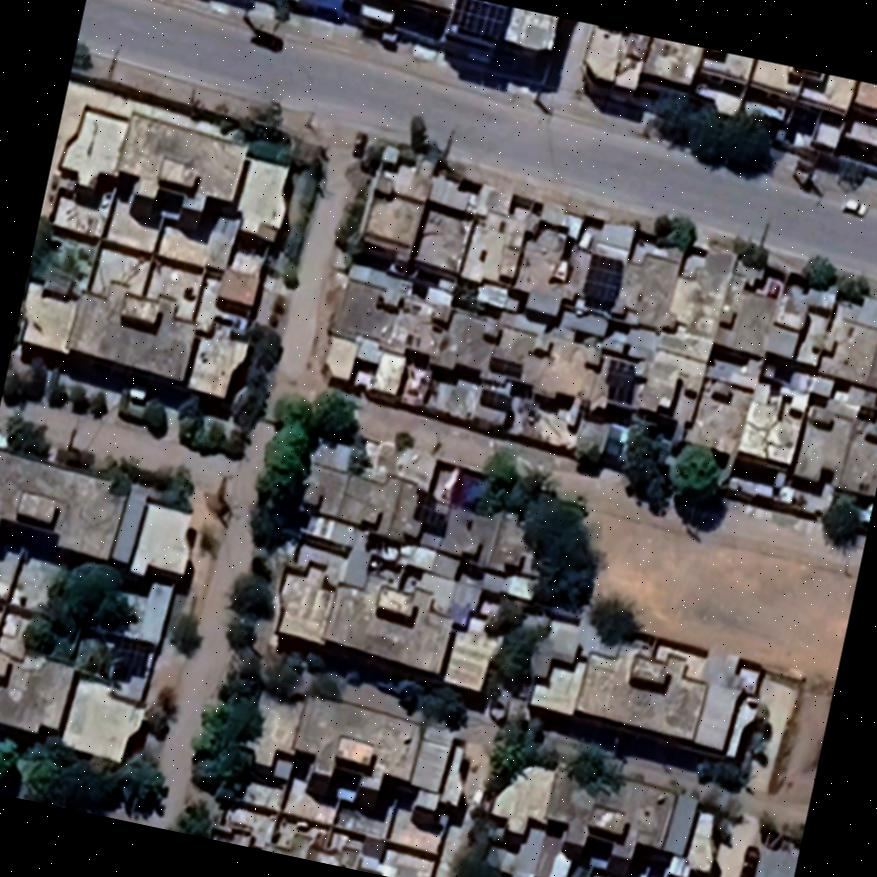Solarpanel: (441, 0, 515, 50), (578, 249, 631, 314), (411, 488, 449, 533), (604, 357, 640, 404), (478, 384, 515, 414), (488, 351, 524, 381)
